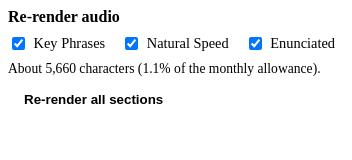
Test: RerenderAudio › a non-Error render rejection is shown as text
Click the button "Re-render all sections" at (94, 100), box [8, 85, 179, 114]
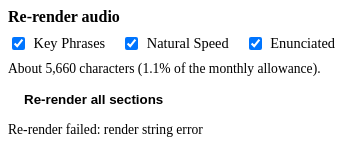
Result: the text "Re-render failed: render string error" is shown at [8, 122, 203, 137]
